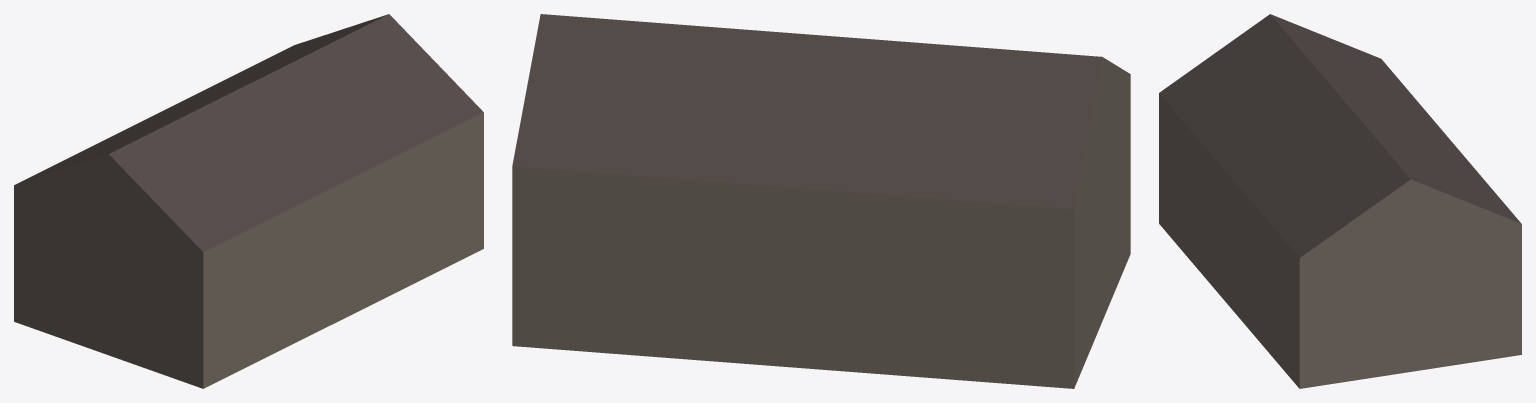
3 views of the same model, side by side, from view 1: azimuth 30°, elevation 25°; view 2: azimuth 150°, elevation 25°; view 3: azimuth 270°, elevation 25° (orthographic). The views are drawn at different scales.
Parts seen in each view (by area): view 1: HP-w859078929; view 2: HP-w859078929; view 3: HP-w859078929.
Part boxes in pixels (box(x1,y1,x2,y2)): HP-w859078929: box(14, 14, 483, 388); HP-w859078929: box(512, 14, 1130, 388); HP-w859078929: box(1159, 14, 1521, 388).
Size of the model in its own units: 29.44 by 13.26 by 22.64.
